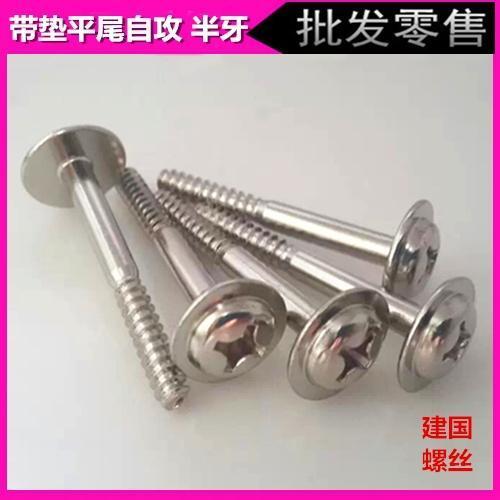Tornillo: (164, 186, 474, 395), (15, 121, 192, 409), (160, 190, 393, 402), (113, 163, 287, 384), (160, 166, 443, 295)
